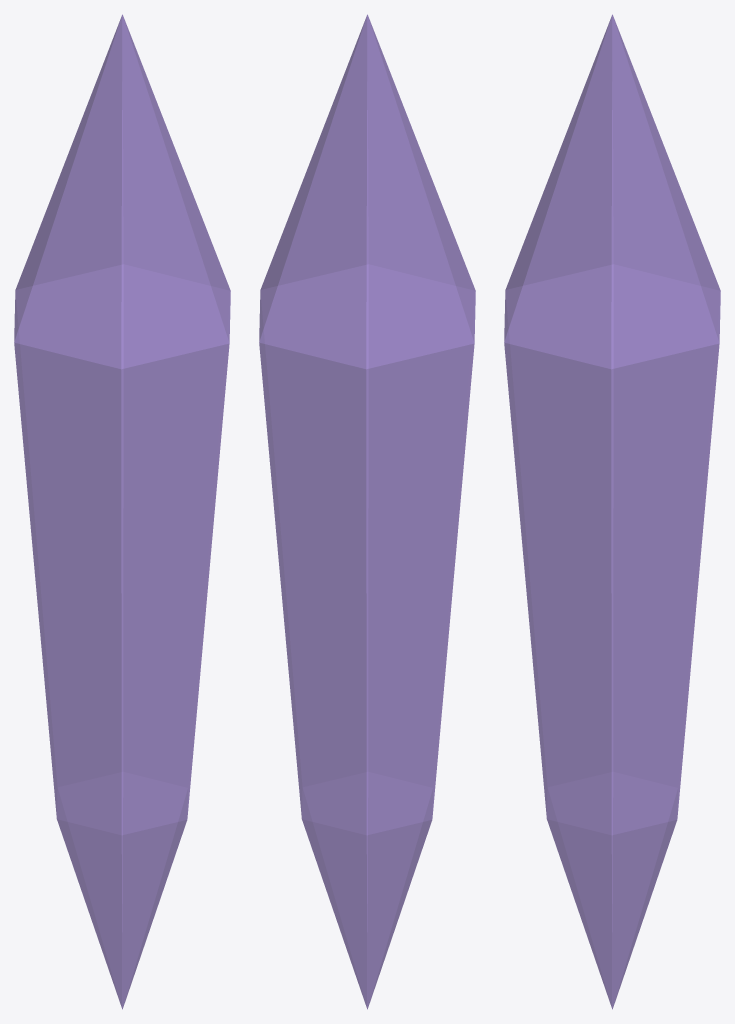
File: Gem_New_08.fbx
The picture shows the model from 3 angles, left to right: view 1: azimuth 30°, elevation 25°; view 2: azimuth 150°, elevation 25°; view 3: azimuth 270°, elevation 25°; orthographic projection.
Parts seen in each view (by area): view 1: Model; view 2: Model; view 3: Model.
Part boxes in pixels (x1,y1,x2,y2): Model: [14, 14, 230, 1009]; Model: [259, 14, 475, 1009]; Model: [504, 14, 720, 1009].
Bounding box in the file's own units: 116 × 513 × 101.
